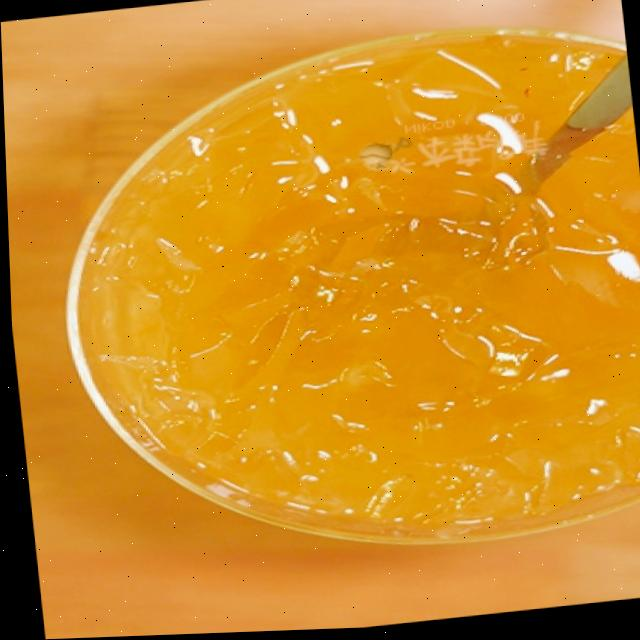蛋糕甜品: (16, 0, 640, 623)
